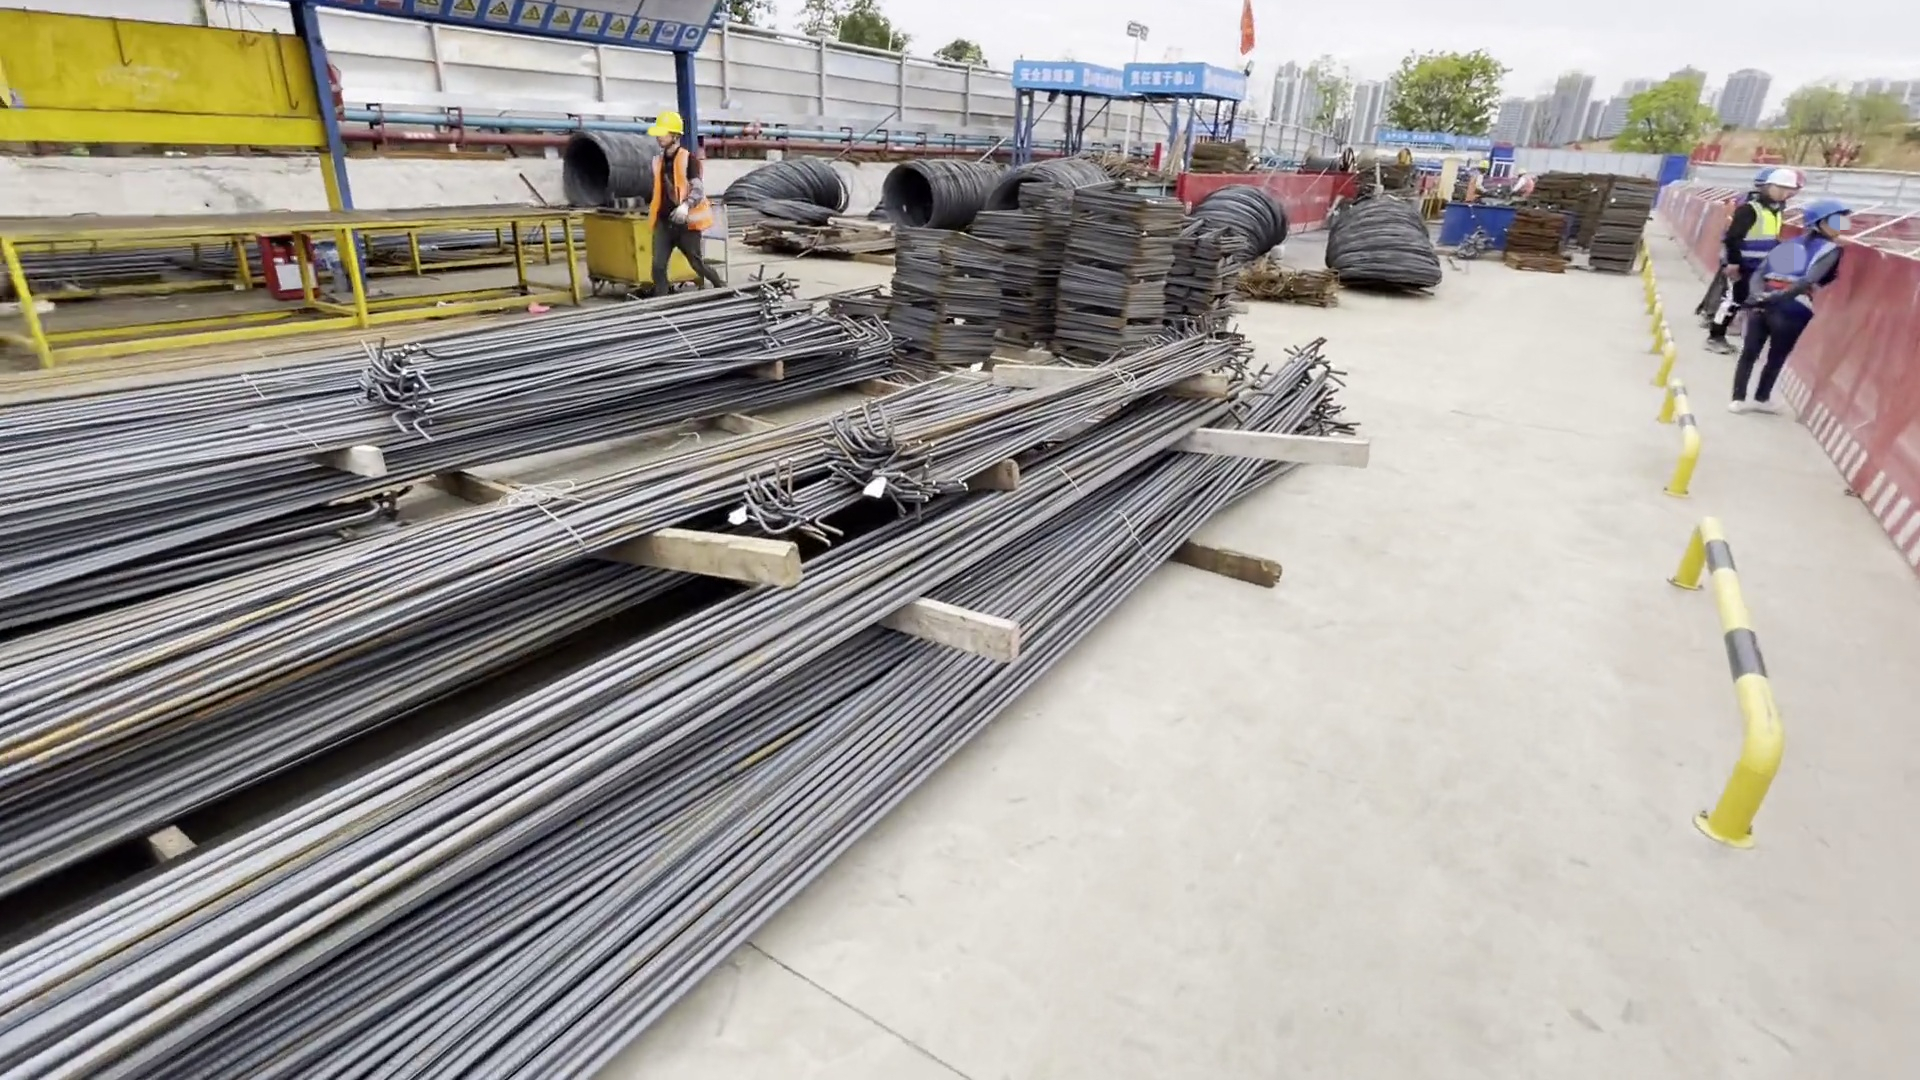helmet: (1801, 199, 1843, 220), (653, 111, 684, 134), (1765, 166, 1798, 186)
person: (1734, 204, 1830, 422), (1704, 170, 1791, 353), (642, 110, 715, 294), (1510, 170, 1533, 204), (1472, 162, 1487, 203)
vest: (1759, 236, 1817, 328), (650, 154, 710, 230), (1742, 199, 1778, 264)
